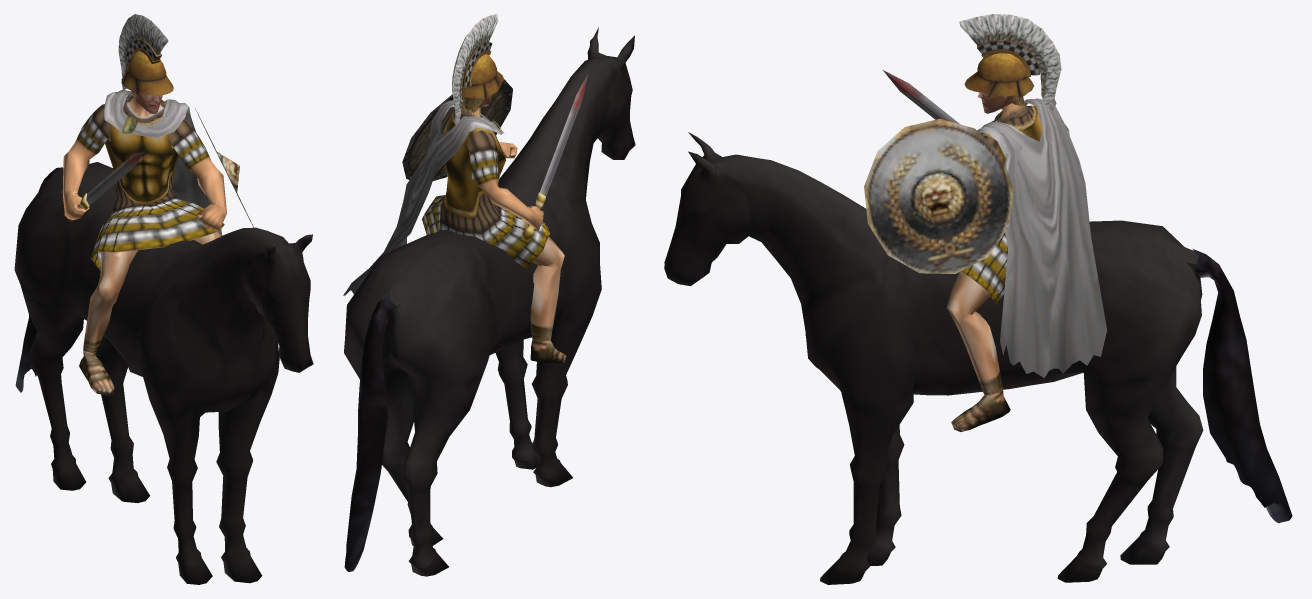
The model's file is 0ad-ancient.b979fa92a979.heavy-cavalry.glb.
3 renders of one model, left to right at view 1: azimuth 30°, elevation 25°; view 2: azimuth 150°, elevation 25°; view 3: azimuth 270°, elevation 25°, orthographic. The views are drawn at different scales.
Parts seen in each view (by area): view 1: units/romans/cavalry_swordsman_c_m.xml; view 2: units/romans/cavalry_swordsman_c_m.xml; view 3: units/romans/cavalry_swordsman_c_m.xml.
Part boxes in pixels (x1,y1,x2,y2): units/romans/cavalry_swordsman_c_m.xml: (14,14,313,584); units/romans/cavalry_swordsman_c_m.xml: (343,14,635,576); units/romans/cavalry_swordsman_c_m.xml: (664,14,1292,584).
Size of the model in its own units: 2.33 by 6.65 by 6.89.
Materials: 2 (2 with a texture image).
